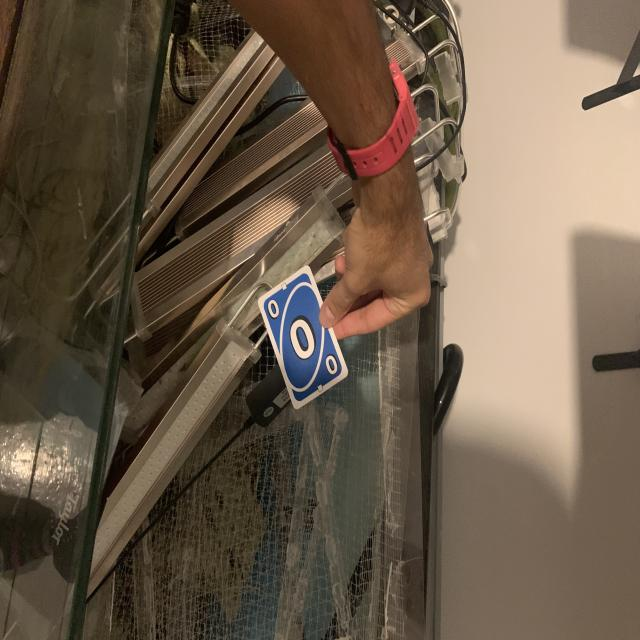lblue-0: (264, 294, 284, 323)
